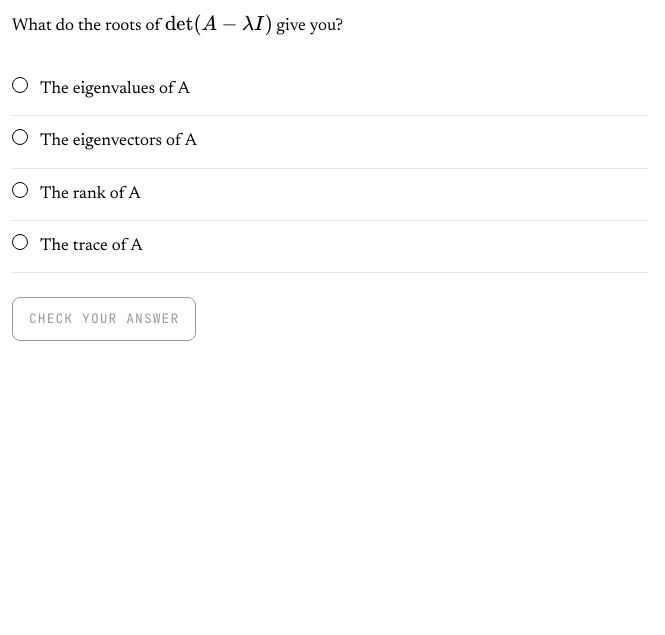
Test case: MultipleChoiceArtefact › says so plainly when the answer was right
The image size is (665, 635).
Click the radio button labelled "The eigenvalues of A" at (20, 85), box [12, 77, 28, 93]
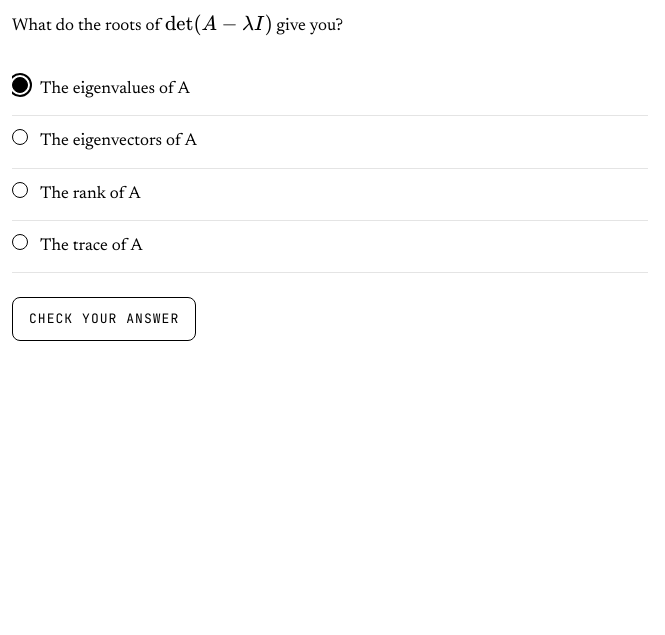
Click the button "Check your answer" at (104, 319), box [12, 297, 196, 341]
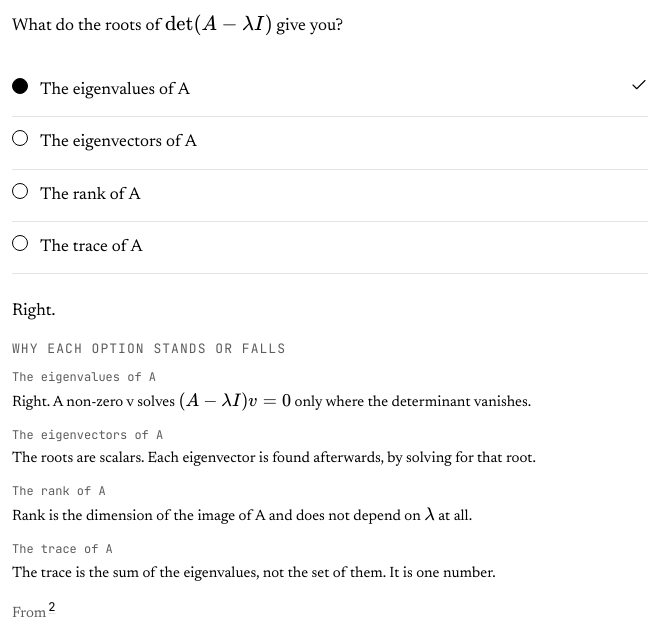
expect the message reads "Right.": met, box [12, 303, 55, 320]
